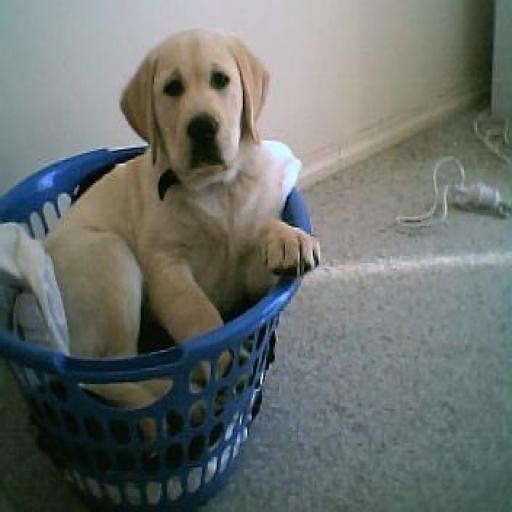dog_face: (124, 28, 272, 178)
